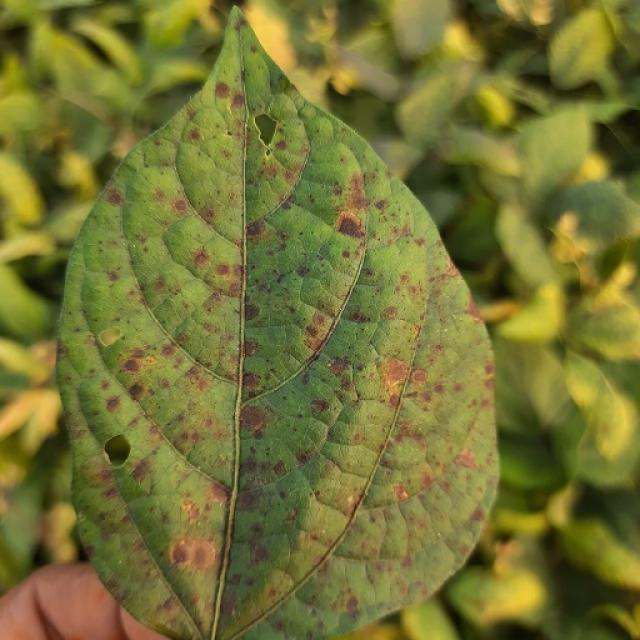Anthracnose: (239, 355, 352, 480), (351, 233, 421, 321), (370, 349, 436, 429), (231, 402, 273, 434), (302, 309, 334, 348), (380, 355, 411, 390), (466, 290, 486, 328), (336, 212, 364, 238), (129, 458, 153, 485), (190, 543, 214, 568), (206, 481, 229, 505), (170, 540, 192, 565), (97, 327, 122, 347), (180, 499, 202, 521), (454, 448, 476, 469), (273, 268, 294, 289), (237, 368, 255, 392), (328, 358, 349, 377), (245, 221, 265, 240), (122, 356, 143, 374), (251, 543, 269, 564), (392, 482, 410, 501), (348, 310, 370, 324), (106, 189, 123, 206), (215, 81, 231, 99), (105, 396, 122, 412), (244, 303, 259, 321), (410, 368, 428, 383), (127, 383, 144, 398), (160, 343, 177, 358), (231, 91, 245, 108), (194, 252, 209, 267), (272, 460, 286, 476), (345, 595, 358, 612), (173, 199, 188, 213), (215, 263, 229, 276), (388, 394, 401, 408), (298, 264, 311, 277), (162, 596, 175, 609), (189, 129, 201, 141), (375, 199, 387, 211), (275, 140, 288, 151), (342, 250, 350, 258), (251, 45, 258, 54), (226, 130, 233, 137)
Blackgram: (58, 10, 498, 639)
